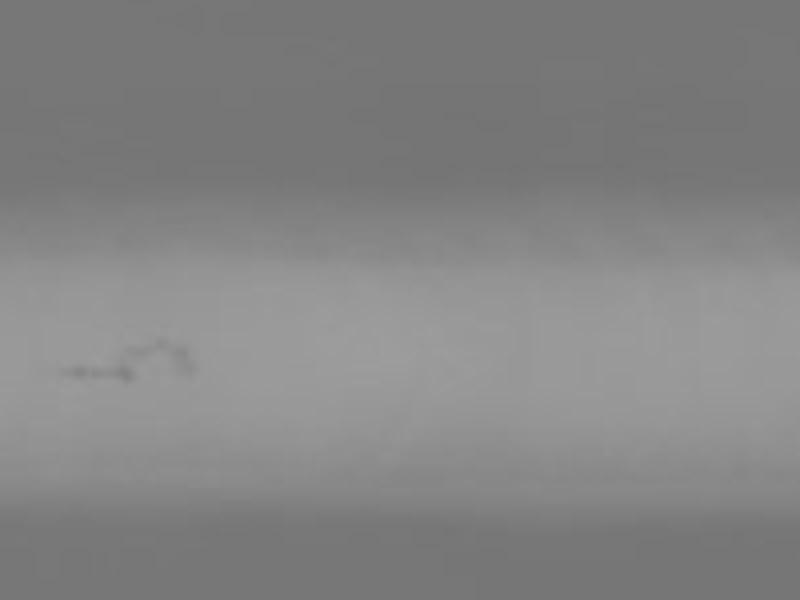defect: (94, 362, 139, 389), (173, 347, 199, 384), (123, 344, 154, 363), (61, 364, 88, 382), (150, 330, 168, 349)
